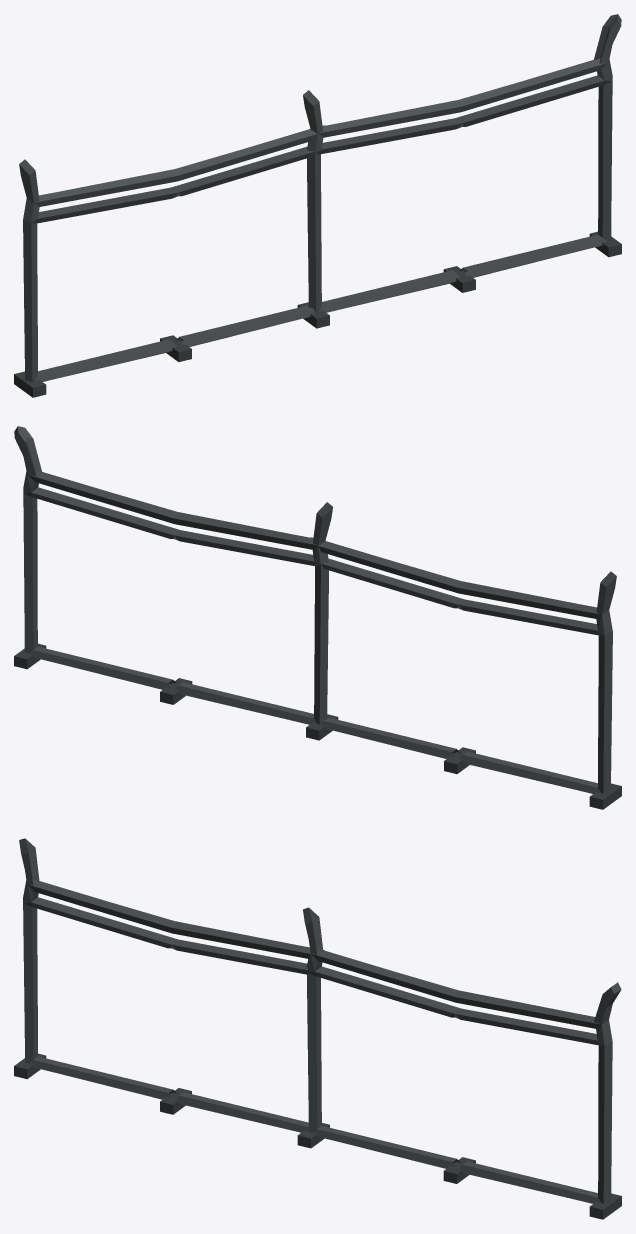
File: SM_Prop_Fence_Wire_01.fbx
3 views of the same model, one above another, from view 1: azimuth 30°, elevation 25°; view 2: azimuth 150°, elevation 25°; view 3: azimuth 330°, elevation 25° (orthographic).
Parts seen in each view (by area): view 1: SM_Prop_Fence_Wire_01; view 2: SM_Prop_Fence_Wire_01; view 3: SM_Prop_Fence_Wire_01.
Boxes of the visible parts, left/top/right/bottom form: SM_Prop_Fence_Wire_01: left=14, top=14, right=621, bottom=397; SM_Prop_Fence_Wire_01: left=14, top=426, right=621, bottom=809; SM_Prop_Fence_Wire_01: left=14, top=838, right=621, bottom=1219.
Size of the model in its own units: 796 by 293 by 43.21.
